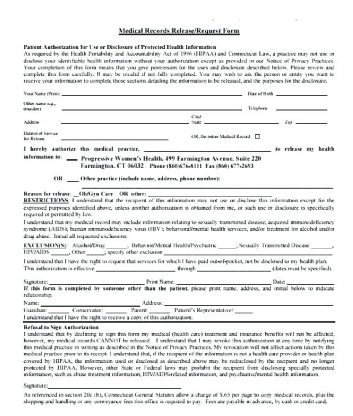checkbox: (253, 131, 263, 143)
textline: (80, 184, 336, 192), (163, 248, 333, 259), (163, 299, 336, 308), (48, 379, 186, 390), (61, 104, 247, 112), (61, 90, 245, 98), (147, 192, 274, 200), (59, 118, 191, 125), (143, 146, 273, 153), (39, 299, 142, 307), (47, 278, 147, 286), (58, 135, 172, 142), (204, 118, 281, 128), (93, 267, 178, 276), (196, 266, 274, 274), (174, 280, 273, 286), (276, 104, 327, 113), (276, 92, 332, 98), (286, 281, 337, 287), (293, 120, 330, 126), (86, 251, 109, 258), (104, 309, 130, 315), (218, 244, 240, 251), (64, 177, 82, 185), (104, 244, 128, 250), (50, 251, 72, 257), (234, 310, 256, 316), (49, 309, 73, 314), (65, 155, 79, 163), (146, 310, 173, 314), (311, 245, 336, 249)
